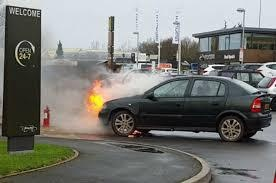fire: (83, 80, 106, 114)
